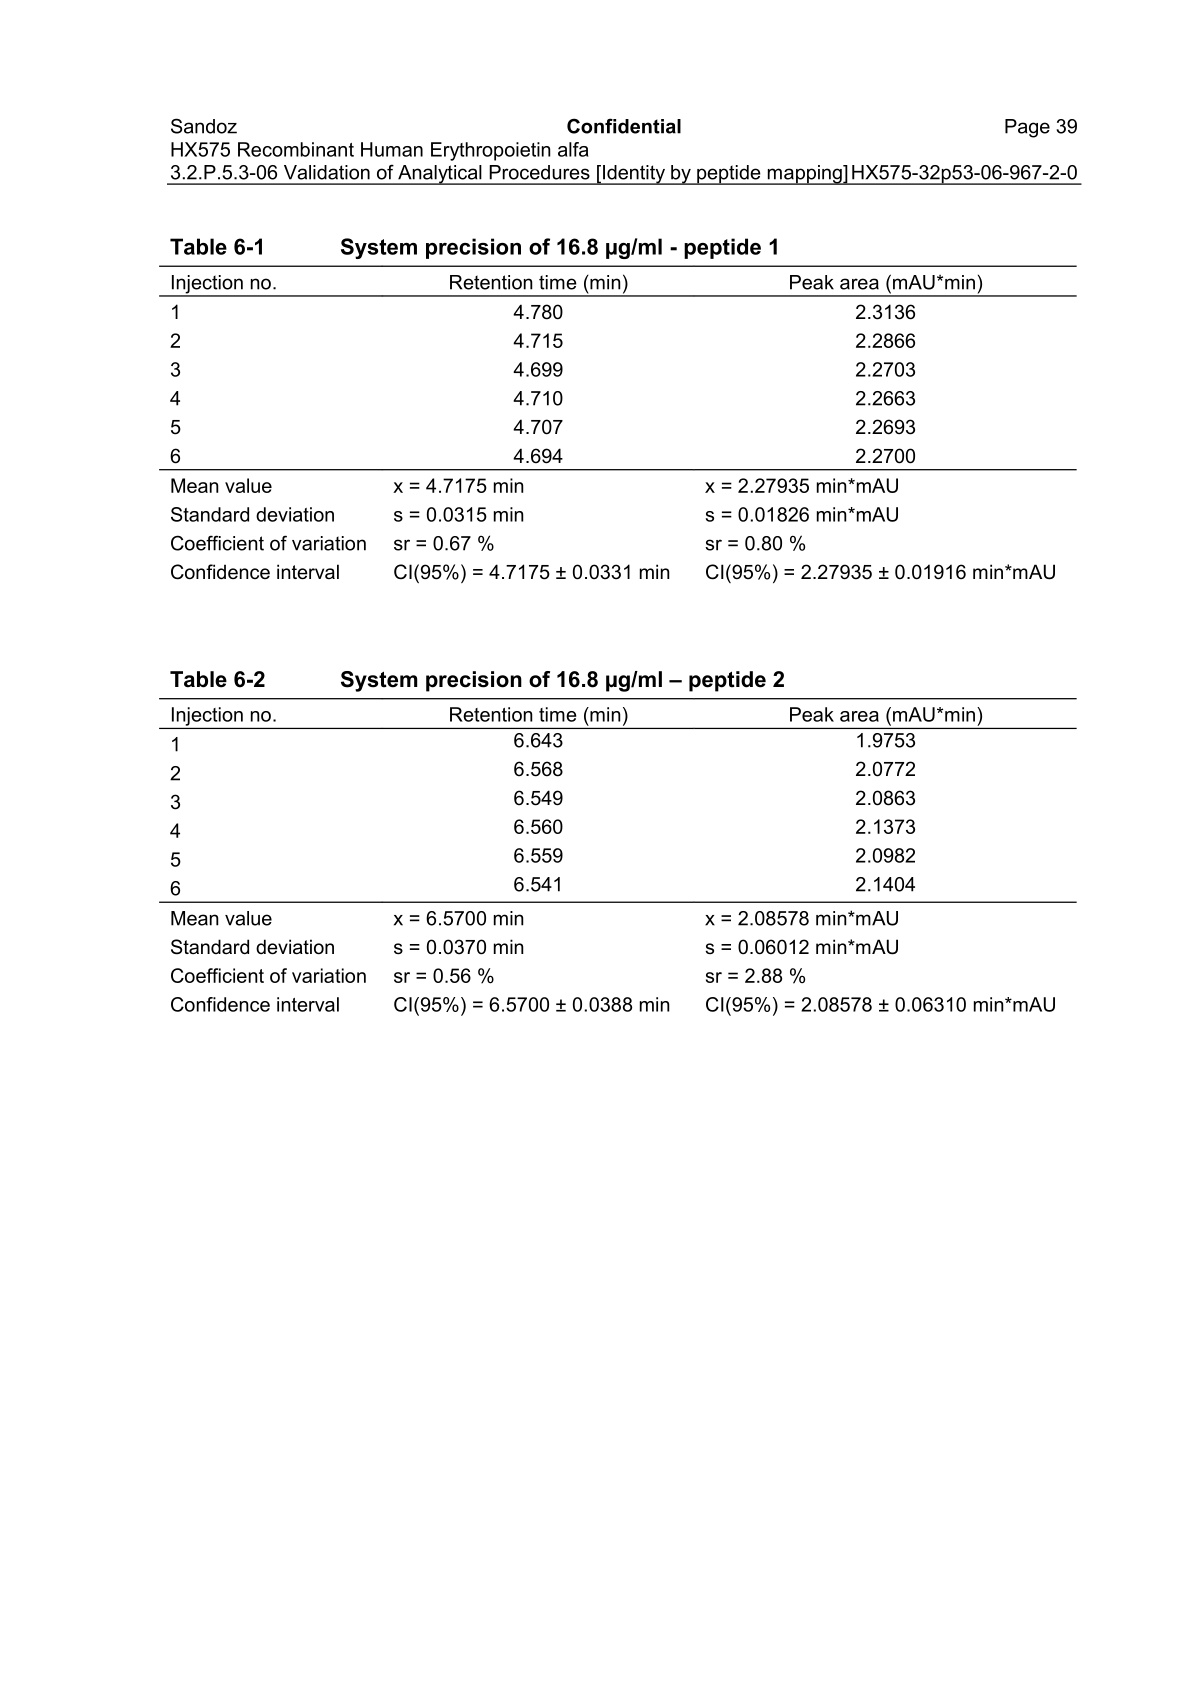partial_lined: (159, 264, 1079, 585), (157, 697, 1076, 1017)
